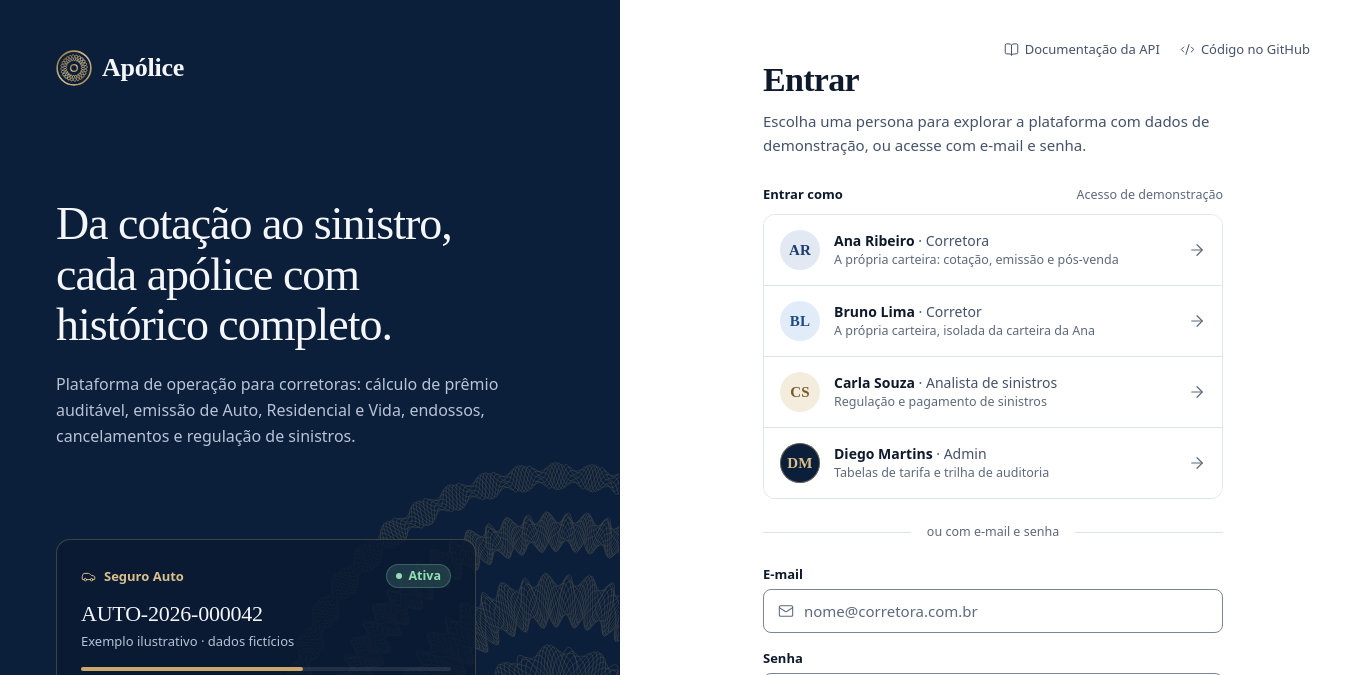
Test: Login › deve mandar quem não está logado para o login e voltar à rota pedida depois
Expected: the heading "Entrar" is shown, [763,60,859,98]
Click the button "Carla Souza" at (993,392), box [764,357,1222,427]
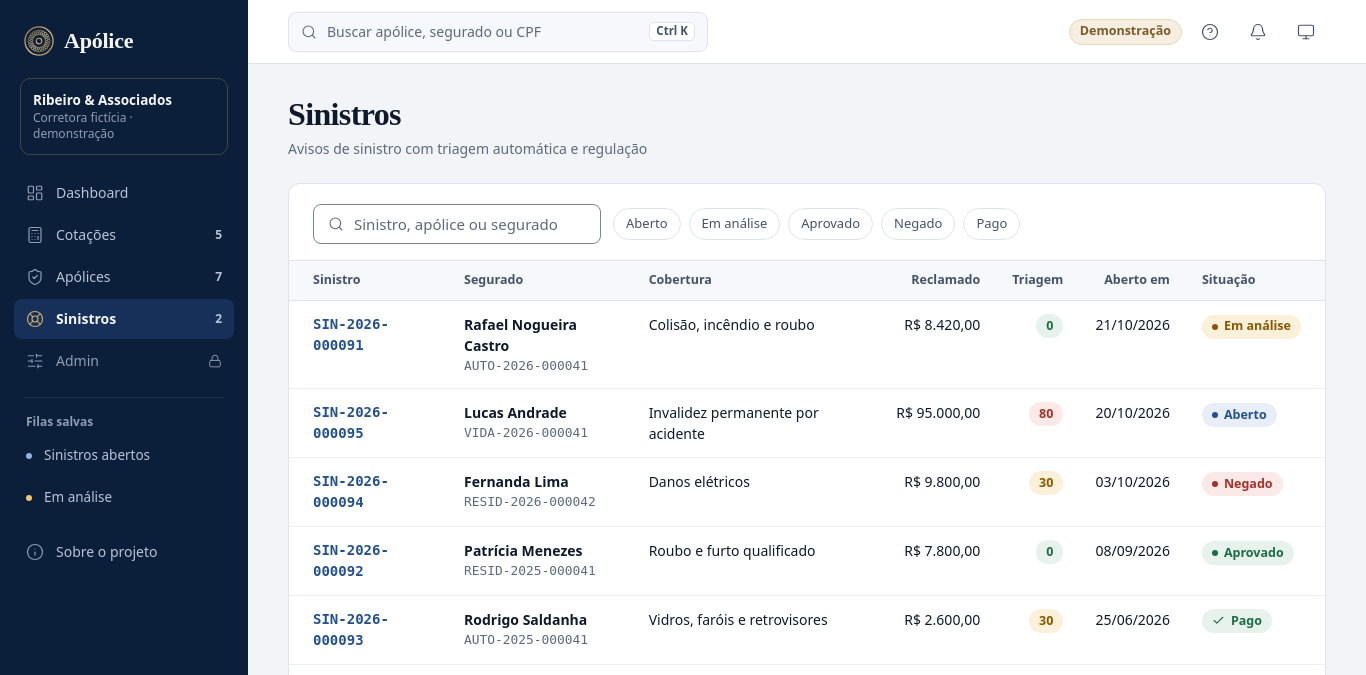
Expected: the heading "Sinistros" is shown, [288,96,401,132]
